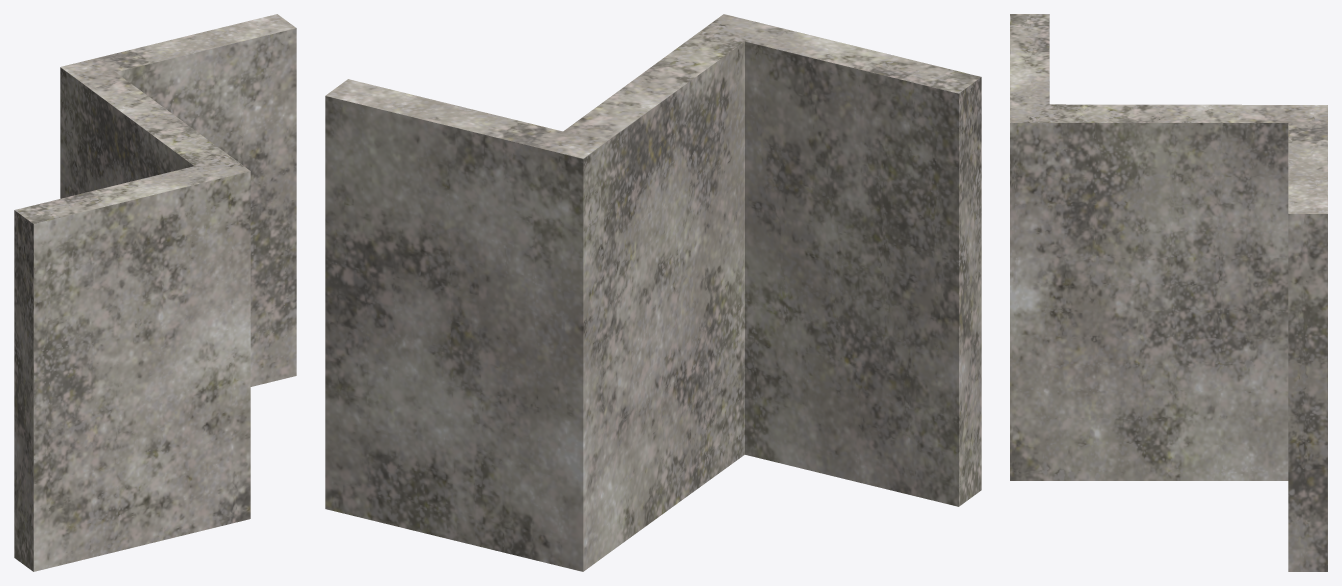
File: Internal Column.FBX
The picture shows the model from 3 angles, left to right: view 1: azimuth 30°, elevation 25°; view 2: azimuth 150°, elevation 25°; view 3: azimuth 270°, elevation 25°; orthographic projection. The views are drawn at different scales.
Parts seen in each view (by area): view 1: Internal Column; view 2: Internal Column; view 3: Internal Column.
Part boxes in pixels (<box>): Internal Column: <box>14,14,296,571</box>; Internal Column: <box>325,14,981,571</box>; Internal Column: <box>1010,14,1327,571</box>.
Bounding box in the file's own units: 26785 × 22352 × 17996.
1 material, 1 textured.
